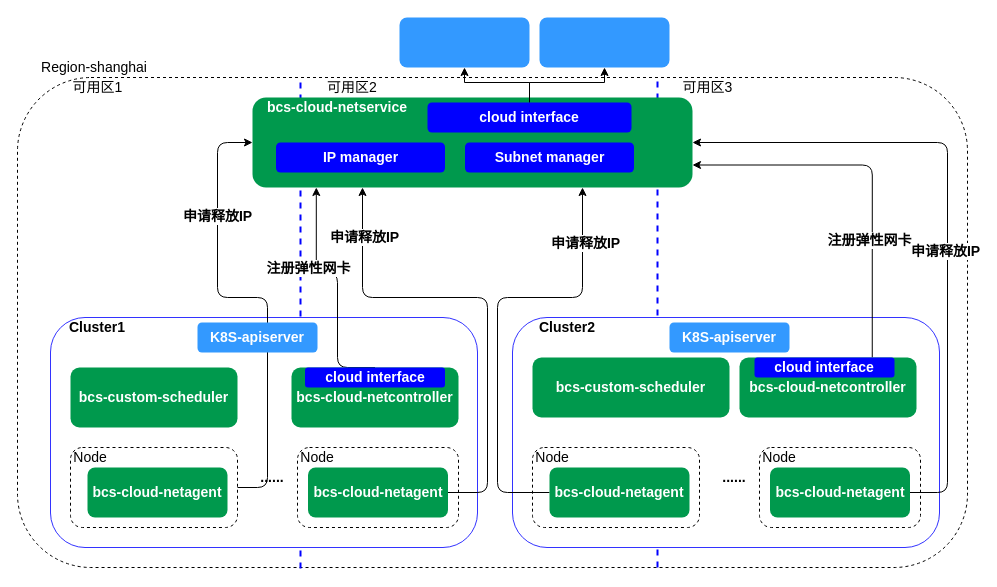
Some shapes in this 997 by 587 pixel diagram are drawn without their labels. Each missing label, with the centre of its shape:
"aws" belongs at point 604,42.
"tencent cloud" belongs at point 464,42.
